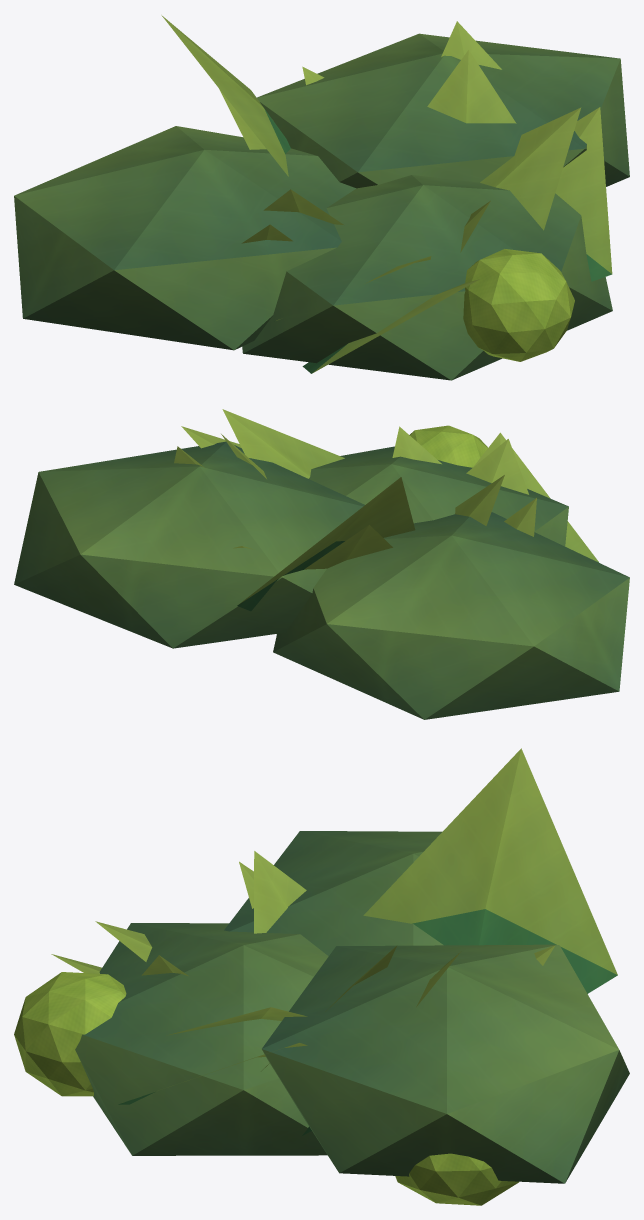
File: forest_moss.glb
3 views of the same model, one above another, from view 1: azimuth 30°, elevation 25°; view 2: azimuth 150°, elevation 25°; view 3: azimuth 270°, elevation 25° (orthographic). The views are drawn at different scales.
Visible parts, largest first — view 1: Soft moss patch, Soft moss patch.002, Soft moss patch.001, Moss tiny sprouting mound.002, Woodland shared curved ivy leaf.059, Woodland shared curved ivy leaf.067, Woodland shared curved ivy leaf.062, Woodland shared curved ivy leaf.068, Woodland shared curved ivy leaf.069, Woodland shared curved ivy leaf.070, Woodland shared curved ivy leaf.058, Woodland shared curved ivy leaf.060; view 2: Soft moss patch, Soft moss patch.001, Soft moss patch.002, Woodland shared curved ivy leaf.068, Woodland shared curved ivy leaf.059, Moss tiny sprouting mound.002, Woodland shared curved ivy leaf.061, Woodland shared curved ivy leaf.060, Woodland shared curved ivy leaf.069, Woodland shared curved ivy leaf.058, Woodland shared curved ivy leaf.064, Woodland shared curved ivy leaf.066 (+1 smaller); view 3: Soft moss patch.001, Soft moss patch.002, Woodland shared curved ivy leaf.068, Soft moss patch, Moss tiny sprouting mound.002, Moss tiny sprouting mound.001, Woodland shared curved ivy leaf.058, Woodland shared curved ivy leaf.061, Woodland shared curved ivy leaf.059.
Boxes of the visible parts, bbox=[...] form: Soft moss patch: bbox=[14, 126, 355, 350]; Soft moss patch.002: bbox=[242, 175, 612, 380]; Soft moss patch.001: bbox=[257, 33, 629, 188]; Moss tiny sprouting mound.002: bbox=[463, 249, 574, 361]; Woodland shared curved ivy leaf.059: bbox=[480, 107, 581, 230]; Woodland shared curved ivy leaf.067: bbox=[555, 107, 612, 281]; Woodland shared curved ivy leaf.062: bbox=[427, 50, 516, 123]; Woodland shared curved ivy leaf.068: bbox=[161, 15, 290, 176]; Woodland shared curved ivy leaf.069: bbox=[302, 279, 479, 373]; Woodland shared curved ivy leaf.070: bbox=[441, 21, 501, 69]; Woodland shared curved ivy leaf.058: bbox=[263, 189, 344, 225]; Woodland shared curved ivy leaf.060: bbox=[219, 89, 266, 149]; Soft moss patch: bbox=[273, 512, 629, 719]; Soft moss patch.001: bbox=[14, 441, 364, 648]; Soft moss patch.002: bbox=[309, 446, 568, 546]; Woodland shared curved ivy leaf.068: bbox=[237, 477, 415, 611]; Woodland shared curved ivy leaf.059: bbox=[222, 409, 344, 478]; Moss tiny sprouting mound.002: bbox=[409, 425, 487, 467]; Woodland shared curved ivy leaf.061: bbox=[466, 439, 528, 494]; Woodland shared curved ivy leaf.060: bbox=[276, 525, 392, 634]; Woodland shared curved ivy leaf.069: bbox=[473, 432, 598, 562]; Woodland shared curved ivy leaf.058: bbox=[455, 475, 504, 525]; Woodland shared curved ivy leaf.064: bbox=[392, 426, 441, 464]; Woodland shared curved ivy leaf.066: bbox=[504, 498, 536, 536]; Soft moss patch.001: bbox=[262, 944, 629, 1183]; Soft moss patch.002: bbox=[75, 923, 328, 1155]; Woodland shared curved ivy leaf.068: bbox=[363, 748, 617, 993]; Soft moss patch: bbox=[224, 831, 443, 956]; Moss tiny sprouting mound.002: bbox=[14, 972, 126, 1096]; Moss tiny sprouting mound.001: bbox=[395, 1153, 518, 1205]; Woodland shared curved ivy leaf.058: bbox=[254, 851, 306, 933]; Woodland shared curved ivy leaf.061: bbox=[95, 921, 152, 961]; Woodland shared curved ivy leaf.059: bbox=[166, 1007, 307, 1035].
Size of the model in its own units: 0.6914 by 0.3017 by 0.5451.
4 materials, 4 textured.
